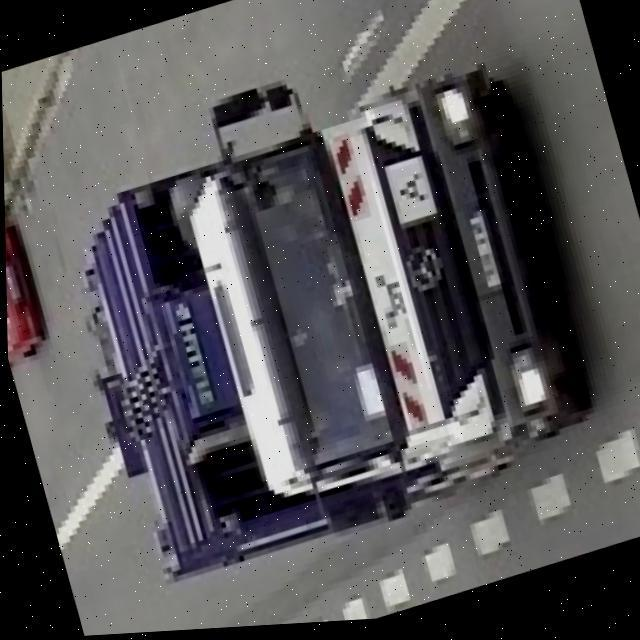truck: (23, 14, 616, 612)
